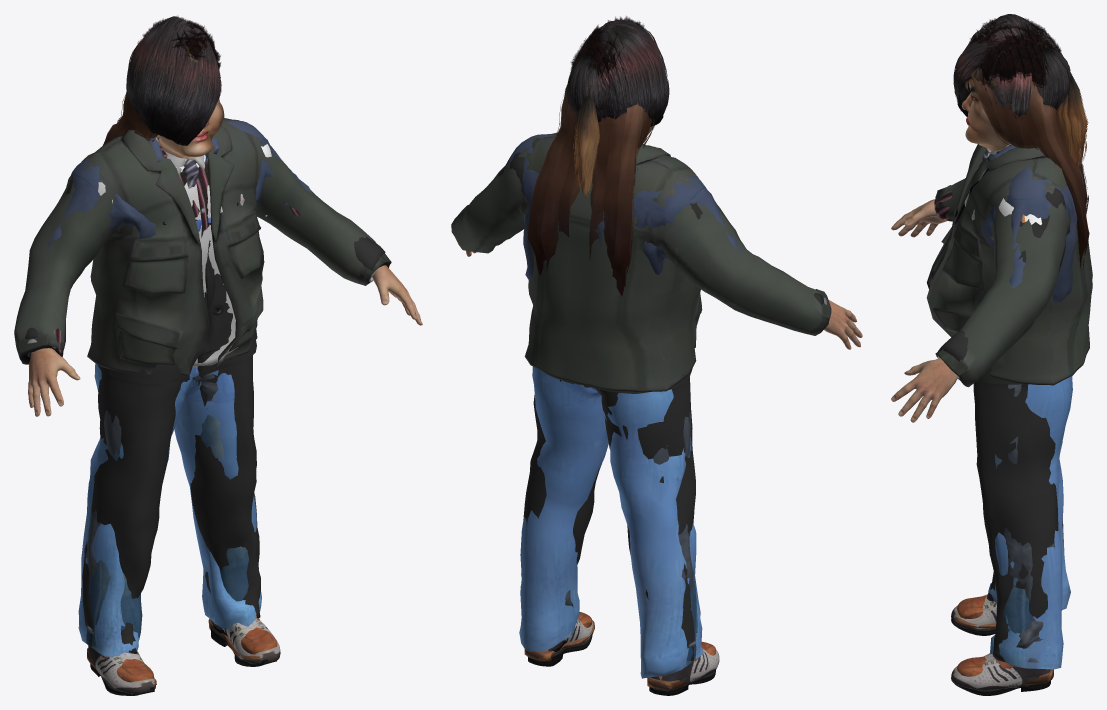
File: akaire.glb
3 renders of one model, left to right at view 1: azimuth 30°, elevation 25°; view 2: azimuth 150°, elevation 25°; view 3: azimuth 270°, elevation 25°, orthographic.
Visible parts, largest first — view 1: male_casualsuit05, male_elegantsuit01, male_worksuit01, bob01, male_casualsuit01, body, male_casualsuit02, shoes05, male_casualsuit03, shoes01, male_casualsuit06, afro01 (+2 smaller); view 2: male_casualsuit05, male_worksuit01, long01, male_elegantsuit01, bob01, male_casualsuit01, ponytail01, afro01, shoes05, shoes01, body, shoes03; view 3: male_casualsuit05, male_elegantsuit01, male_worksuit01, male_casualsuit01, long01, bob01, body, afro01, shoes05, ponytail01, shoes01, male_casualsuit03 (+2 smaller).
Boxes of the visible parts, bbox=[...] form: male_casualsuit05: bbox=[14, 118, 391, 376]; male_elegantsuit01: bbox=[25, 137, 385, 653]; male_worksuit01: bbox=[78, 144, 271, 656]; bob01: bbox=[126, 16, 221, 145]; male_casualsuit01: bbox=[28, 120, 312, 636]; body: bbox=[28, 100, 422, 659]; male_casualsuit02: bbox=[27, 193, 370, 649]; shoes05: bbox=[88, 619, 280, 694]; male_casualsuit03: bbox=[48, 145, 364, 639]; shoes01: bbox=[87, 618, 277, 685]; male_casualsuit06: bbox=[98, 182, 244, 366]; afro01: bbox=[137, 15, 220, 72]; male_casualsuit05: bbox=[451, 132, 831, 392]; male_worksuit01: bbox=[504, 169, 703, 678]; long01: bbox=[528, 84, 654, 296]; male_elegantsuit01: bbox=[497, 152, 826, 662]; bob01: bbox=[566, 19, 669, 126]; male_casualsuit01: bbox=[505, 134, 741, 658]; ponytail01: bbox=[573, 85, 599, 198]; afro01: bbox=[569, 16, 649, 107]; shoes05: bbox=[527, 619, 719, 691]; shoes01: bbox=[524, 611, 715, 689]; body: bbox=[466, 42, 862, 680]; shoes03: bbox=[528, 634, 715, 695]; male_casualsuit05: bbox=[926, 144, 1092, 387]; male_elegantsuit01: bbox=[931, 144, 1065, 662]; male_worksuit01: bbox=[962, 195, 1072, 669]; male_casualsuit01: bbox=[981, 144, 1077, 662]; long01: bbox=[969, 40, 1089, 270]; bob01: bbox=[953, 14, 1070, 118]; body: bbox=[891, 38, 1039, 619]; afro01: bbox=[969, 17, 1062, 102]; shoes05: bbox=[951, 594, 1050, 689]; ponytail01: bbox=[1057, 72, 1088, 167]; shoes01: bbox=[955, 596, 1053, 685]; male_casualsuit03: bbox=[934, 150, 1028, 633].
Bounding box in the file's own units: 1.19 × 1.9 × 0.5418.
26 materials, 26 textured.
